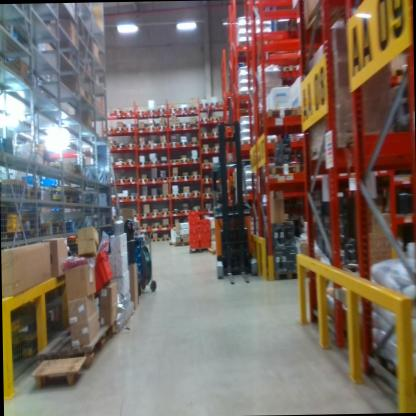forklift: (206, 114, 266, 289)
pallet: (26, 355, 86, 393), (40, 332, 106, 365), (74, 316, 122, 350), (260, 161, 300, 185), (263, 104, 296, 125), (186, 241, 211, 259), (281, 65, 299, 87), (274, 266, 301, 280), (136, 125, 146, 148), (202, 193, 213, 212), (123, 123, 135, 136), (153, 107, 165, 120), (198, 100, 208, 115), (115, 108, 127, 120), (124, 108, 135, 121), (114, 124, 124, 137), (135, 106, 145, 119), (144, 140, 157, 150), (201, 173, 214, 183), (177, 105, 188, 116), (157, 175, 170, 184), (147, 176, 158, 186), (178, 123, 189, 133), (201, 128, 210, 140), (173, 240, 188, 247), (168, 107, 178, 117), (188, 138, 199, 147), (190, 174, 201, 183), (116, 176, 127, 185), (116, 141, 127, 150), (146, 106, 155, 117), (189, 122, 198, 133), (201, 160, 214, 167), (181, 207, 191, 216), (138, 176, 147, 186), (115, 159, 125, 168), (158, 140, 168, 149), (170, 175, 181, 183), (124, 159, 135, 167), (210, 131, 219, 140), (210, 102, 219, 111), (171, 208, 181, 216), (180, 190, 190, 198), (107, 124, 115, 134), (191, 207, 202, 214), (209, 116, 220, 123), (141, 210, 150, 218), (171, 191, 180, 199), (150, 193, 159, 201), (159, 193, 171, 199), (190, 104, 196, 116), (167, 158, 179, 164), (160, 209, 170, 216), (150, 210, 160, 217), (127, 194, 137, 201), (146, 124, 156, 131), (179, 157, 189, 164), (140, 223, 151, 229), (159, 236, 170, 242), (169, 124, 180, 130), (168, 140, 179, 146), (139, 158, 148, 165), (211, 145, 220, 152), (140, 195, 150, 201), (156, 125, 166, 131), (199, 118, 210, 123), (151, 223, 160, 229), (126, 178, 135, 184), (159, 158, 168, 164), (201, 147, 210, 153), (191, 191, 201, 196), (160, 223, 170, 228), (150, 237, 160, 242), (179, 140, 189, 145), (128, 143, 135, 150), (181, 174, 189, 180), (148, 159, 159, 163), (119, 196, 127, 201), (189, 157, 198, 161), (110, 144, 115, 150)
small_load_carrier: (86, 242, 118, 296), (200, 236, 211, 251), (198, 227, 211, 239), (189, 238, 200, 251), (187, 210, 200, 220), (199, 217, 211, 227), (187, 220, 199, 229), (189, 228, 199, 238)
